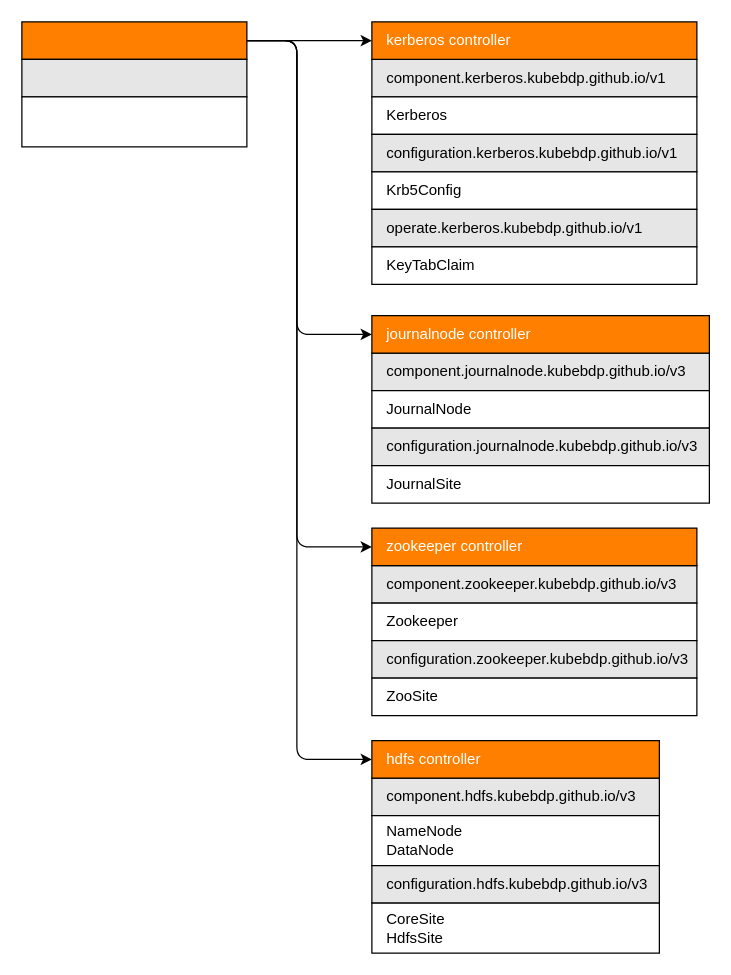
The diagram is 731 pixels wide and 975 high, and some of its shapes have lost their labels. The shapes that lost their labels are listed below. From the top down, each one's centre as x and y in pixels, then its label:
[134,40]: cluster controller
[134,77]: manager.kubebdp.github.io.v1
[134,121]: Cluster StackDefinition
